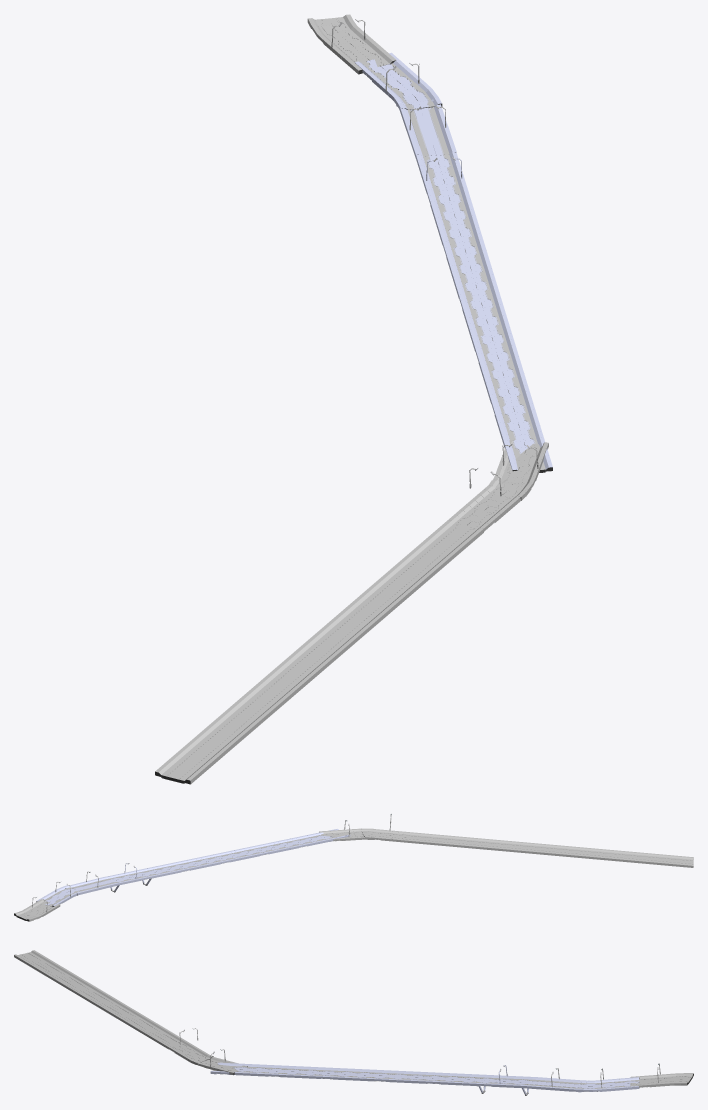
The picture shows the model from 3 angles, top to bottom: view 1: azimuth 30°, elevation 25°; view 2: azimuth 150°, elevation 25°; view 3: azimuth 270°, elevation 25°; orthographic projection. The views are drawn at different scales.
Parts seen in each view (by area): view 1: KB3D_HTS_Road_H_Main_1_001_1, KB3D_HTS_Road_H_Main_001_002, KB3D_HTS_Road_H_Main_001_002_1, KB3D_HTS_Road_A_Main__2_, KB3D_HTS_Road_A_Main__1_, KB3D_HTS_Road_A_Main__3_, KB3D_HTS_Road_A_Main__4_, KB3D_HTS_Road_A_Main, KB3D_HTS_Road_H_Main_1_001, KB3D_HTS_Road_A_Main__5_, KB3D_HTS_Road_H_Main_001_002_2; view 2: KB3D_HTS_Road_H_Main_1_001_1, KB3D_HTS_Road_H_Main_001_002, KB3D_HTS_Road_A_Main__2_, KB3D_HTS_Road_A_Main__1_, KB3D_HTS_Road_A_Main__3_, KB3D_HTS_Road_A_Main__4_, KB3D_HTS_Road_H_Main_1_001, KB3D_HTS_Road_A_Main, KB3D_HTS_Road_H_Main_001_002_1, KB3D_HTS_Road_H_Main_001_002_2, KB3D_HTS_Road_A_Main__5_; view 3: KB3D_HTS_Road_H_Main_1_001_1, KB3D_HTS_Road_H_Main_001_002_1, KB3D_HTS_Road_H_Main_001_002, KB3D_HTS_Road_A_Main__2_, KB3D_HTS_Road_A_Main__4_, KB3D_HTS_Road_A_Main__1_, KB3D_HTS_Road_A_Main__3_, KB3D_HTS_Road_A_Main, KB3D_HTS_Road_H_Main_1_001, KB3D_HTS_Road_A_Main__5_, KB3D_HTS_Road_H_Main_001_002_2.
Part boxes in pixels (<box>): KB3D_HTS_Road_H_Main_1_001_1: <box>155,480,531,784</box>; KB3D_HTS_Road_H_Main_001_002: <box>307,14,396,74</box>; KB3D_HTS_Road_H_Main_001_002_1: <box>354,52,442,109</box>; KB3D_HTS_Road_A_Main__2_: <box>448,256,504,314</box>; KB3D_HTS_Road_A_Main__1_: <box>432,204,488,262</box>; KB3D_HTS_Road_A_Main__3_: <box>464,309,520,367</box>; KB3D_HTS_Road_A_Main__4_: <box>480,362,536,420</box>; KB3D_HTS_Road_A_Main: <box>416,152,472,210</box>; KB3D_HTS_Road_H_Main_1_001: <box>396,99,456,158</box>; KB3D_HTS_Road_A_Main__5_: <box>496,414,552,472</box>; KB3D_HTS_Road_H_Main_001_002_2: <box>493,440,548,500</box>; KB3D_HTS_Road_H_Main_1_001_1: <box>361,828,693,867</box>; KB3D_HTS_Road_H_Main_001_002: <box>14,899,60,921</box>; KB3D_HTS_Road_A_Main__2_: <box>182,853,233,869</box>; KB3D_HTS_Road_A_Main__1_: <box>143,861,194,877</box>; KB3D_HTS_Road_A_Main__3_: <box>221,844,272,861</box>; KB3D_HTS_Road_A_Main__4_: <box>261,836,311,853</box>; KB3D_HTS_Road_H_Main_1_001: <box>65,877,117,895</box>; KB3D_HTS_Road_A_Main: <box>105,869,156,885</box>; KB3D_HTS_Road_H_Main_001_002_1: <box>36,885,81,906</box>; KB3D_HTS_Road_H_Main_001_002_2: <box>319,828,374,841</box>; KB3D_HTS_Road_A_Main__5_: <box>300,829,350,845</box>; KB3D_HTS_Road_H_Main_1_001_1: <box>14,950,213,1064</box>; KB3D_HTS_Road_H_Main_001_002_1: <box>575,1077,639,1091</box>; KB3D_HTS_Road_H_Main_001_002: <box>630,1073,693,1087</box>; KB3D_HTS_Road_A_Main__2_: <box>368,1069,428,1083</box>; KB3D_HTS_Road_A_Main__4_: <box>262,1065,323,1078</box>; KB3D_HTS_Road_A_Main__1_: <box>421,1072,481,1085</box>; KB3D_HTS_Road_A_Main__3_: <box>315,1067,375,1080</box>; KB3D_HTS_Road_A_Main: <box>473,1074,532,1088</box>; KB3D_HTS_Road_H_Main_1_001: <box>525,1077,588,1092</box>; KB3D_HTS_Road_A_Main__5_: <box>210,1062,271,1076</box>; KB3D_HTS_Road_H_Main_001_002_2: <box>187,1056,247,1075</box>.
Size of the model in its own units: 34339 by 7002 by 46397.
